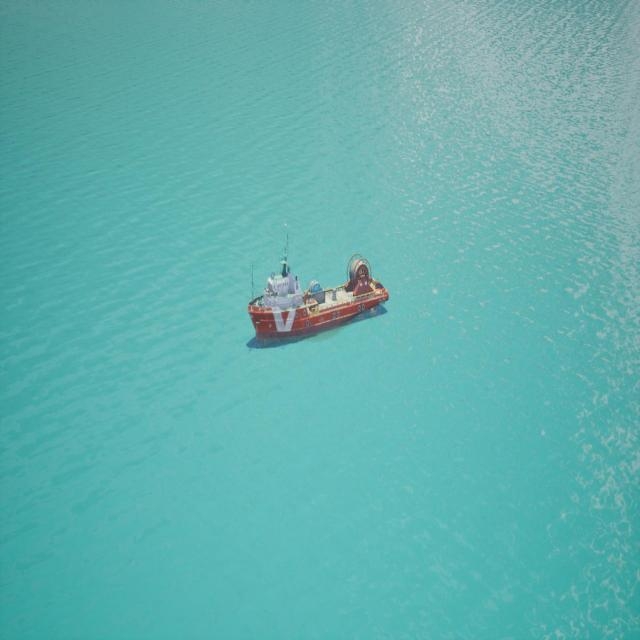tug boat: (247, 231, 390, 350)
